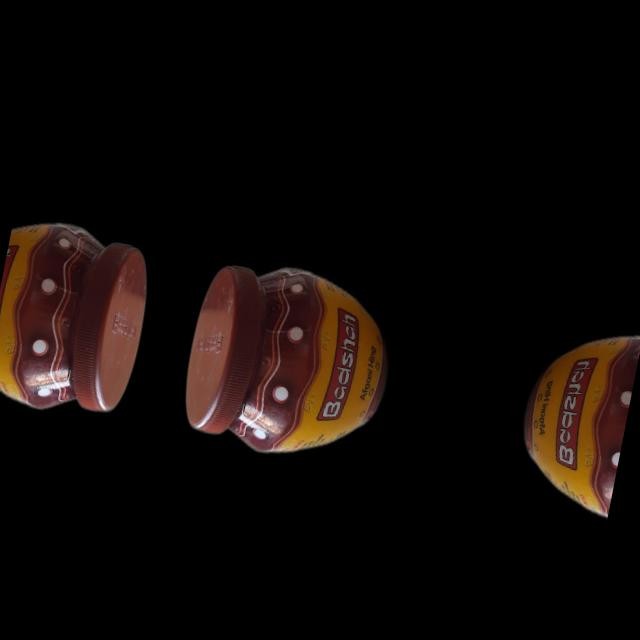Badshah Afgani Hing: (174, 249, 402, 470), (0, 212, 158, 423), (510, 315, 640, 517)
